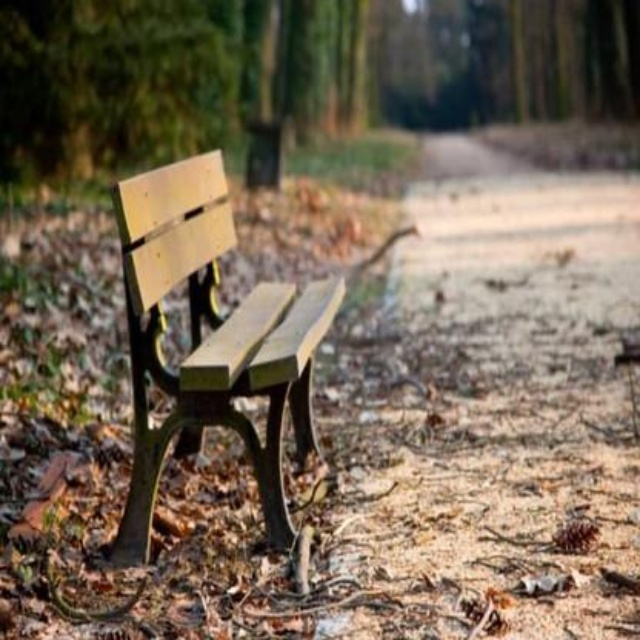obstacle: (95, 132, 371, 577)
